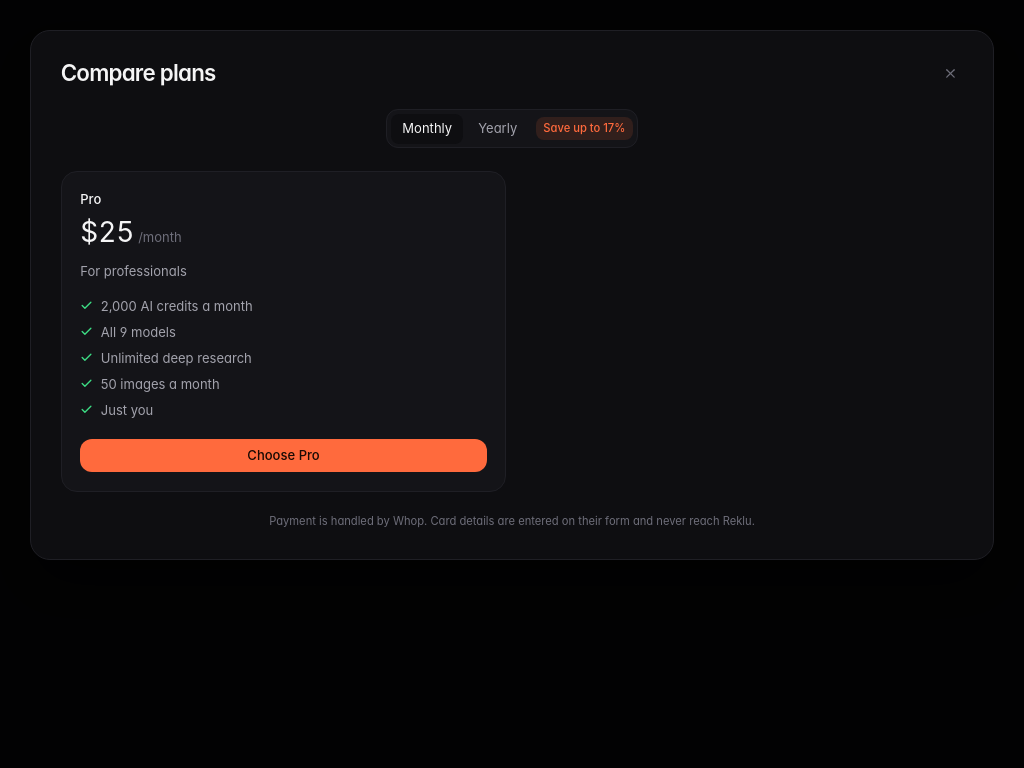
billing period › shows the yearly rate per month, and the yearly total
Click the radio button labelled "yearly". click: (498,129)
box: x1=467 y1=114 x2=528 y2=144
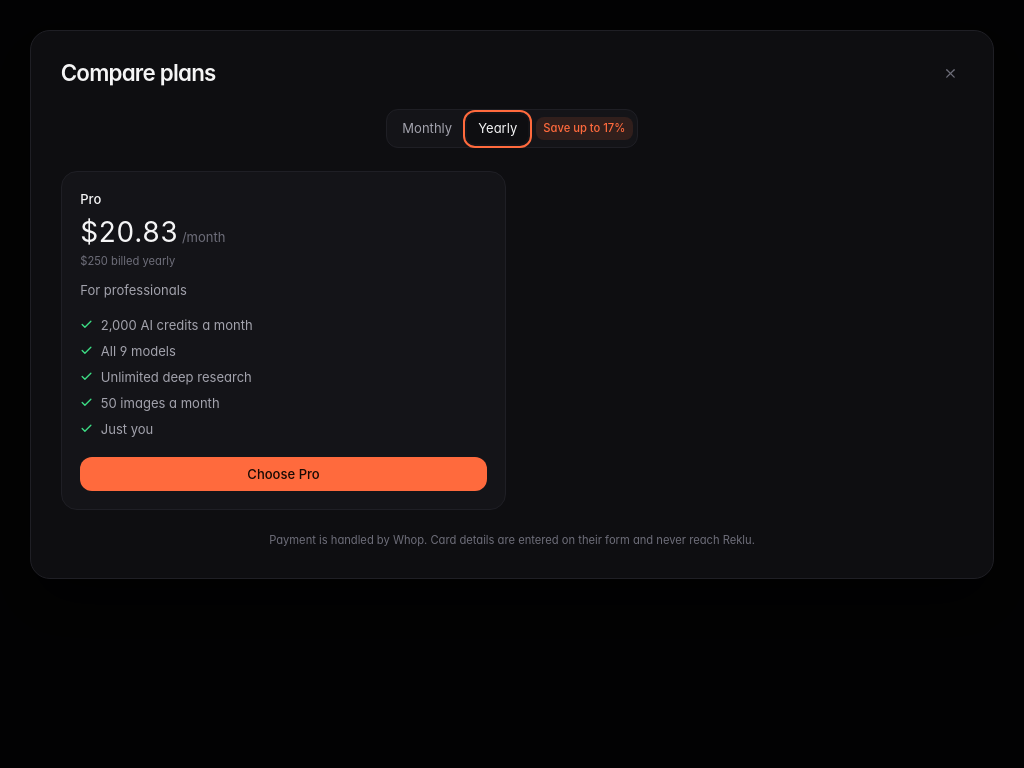
expect the text "$20.83" is shown: met, box x1=80 y1=216 x2=178 y2=250
expect the text "$250 billed yearly" is shown: met, box x1=80 y1=254 x2=175 y2=268
